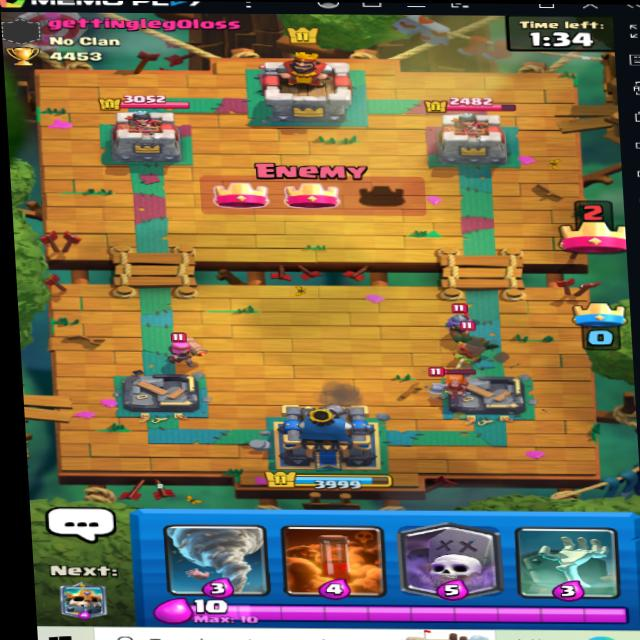dart-goblin: (448, 322, 513, 367)
firecracker: (134, 318, 206, 369)
musketeer: (436, 298, 487, 350)
valkyrie: (428, 365, 482, 397)
